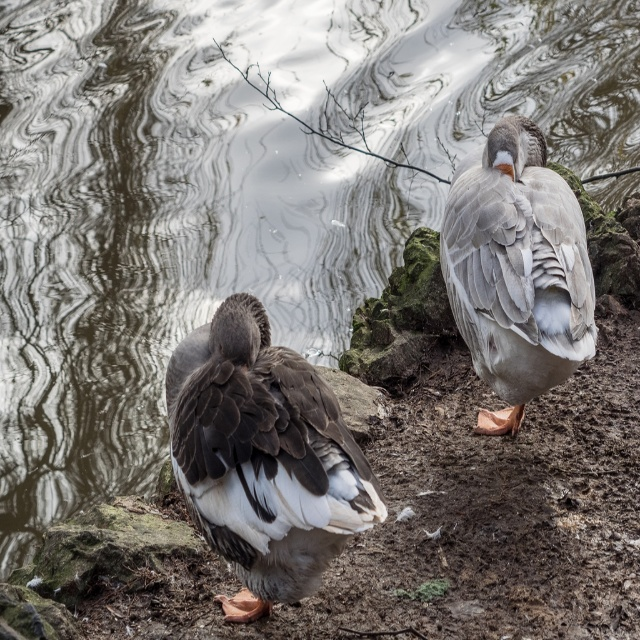Goose: (155, 271, 391, 599), (440, 110, 600, 438)
